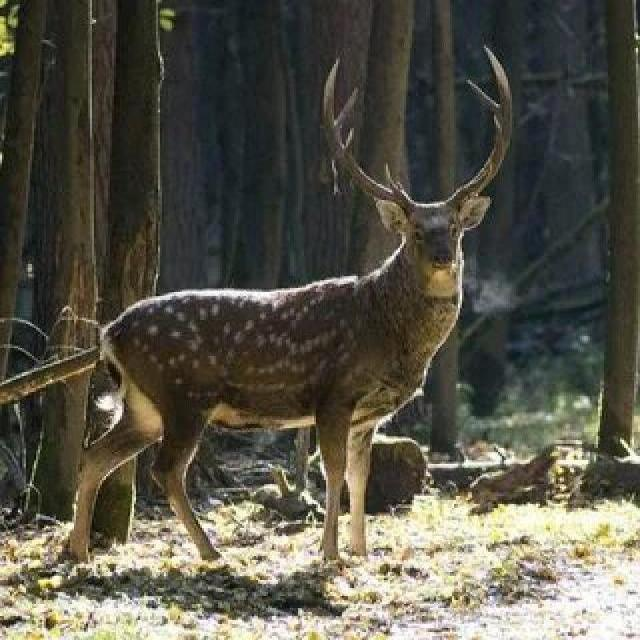deer: (86, 122, 466, 522)
